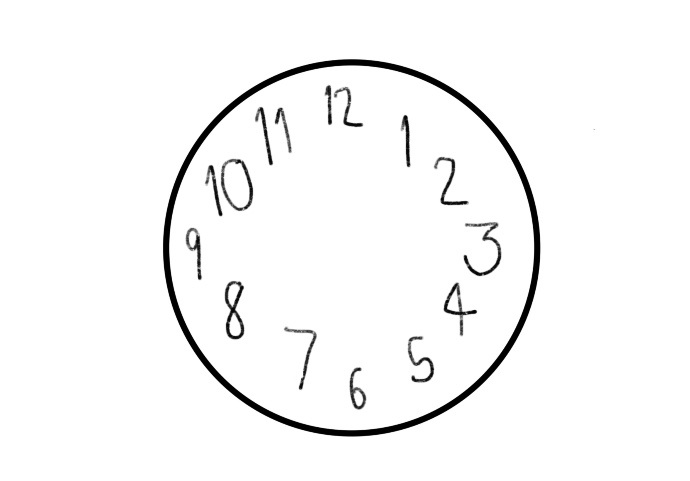eight: (222, 275, 246, 339)
eleven: (252, 104, 295, 168)
five: (403, 333, 439, 387)
four: (438, 276, 481, 341)
nine: (180, 223, 206, 283)
one: (392, 107, 418, 167)
seven: (283, 324, 320, 393)
six: (347, 362, 368, 413)
ten: (202, 156, 253, 221)
three: (458, 217, 506, 282)
twelve: (318, 82, 364, 131)
two: (431, 152, 474, 212)
